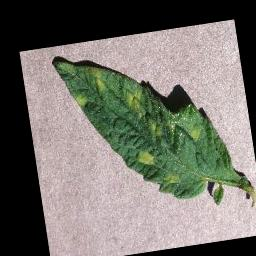Leaf_Mold: (86, 64, 109, 94), (123, 85, 144, 114), (135, 147, 157, 166), (161, 169, 182, 186), (73, 91, 91, 110), (187, 124, 203, 141)
